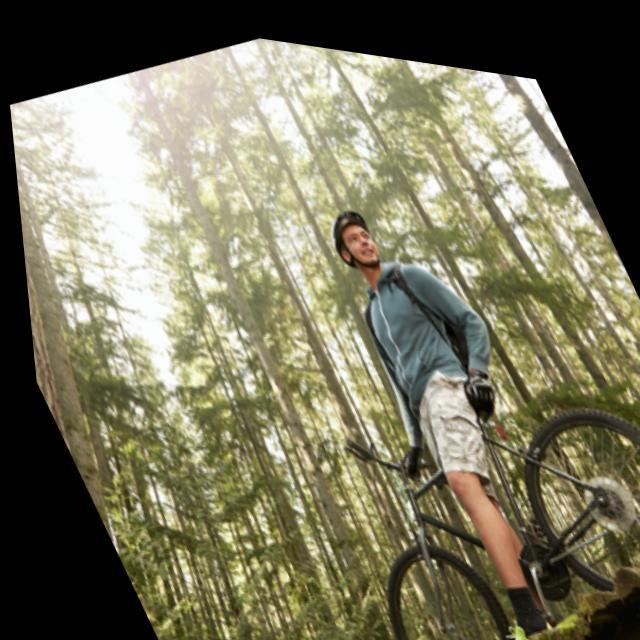Helmet: (329, 202, 386, 278)
